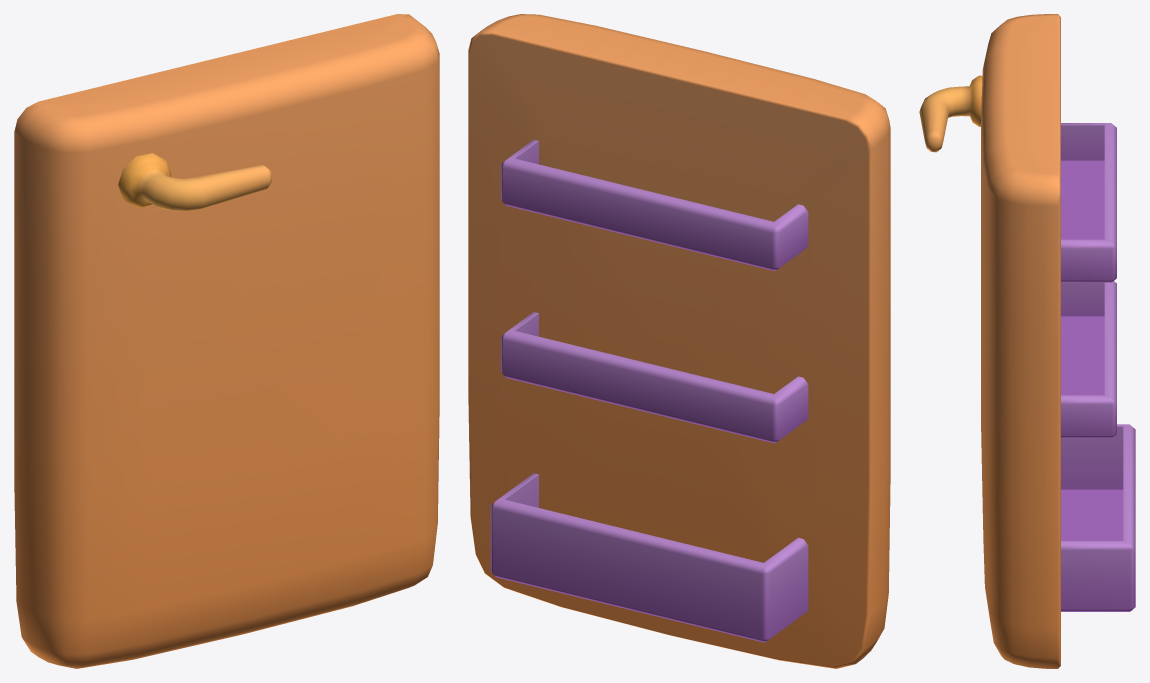
Rendered from Fridge_Door_01_002.fbx.
3 renders of one model, left to right at view 1: azimuth 30°, elevation 25°; view 2: azimuth 150°, elevation 25°; view 3: azimuth 270°, elevation 25°, orthographic. The views are drawn at different scales.
Visible parts, largest first — view 1: Fridge_Door_01_002; view 2: Fridge_Door_01_002; view 3: Fridge_Door_01_002.
Part boxes in pixels (<box>): Fridge_Door_01_002: <box>14,14,439,668</box>; Fridge_Door_01_002: <box>468,14,890,668</box>; Fridge_Door_01_002: <box>919,14,1135,668</box>.
Bounding box in the file's own units: 67.98 × 34.85 × 90.18.
